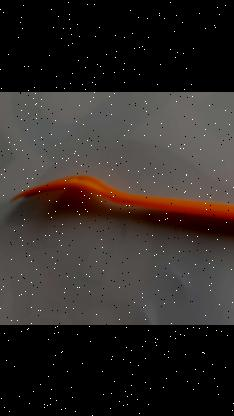Others: (6, 152, 234, 234)
